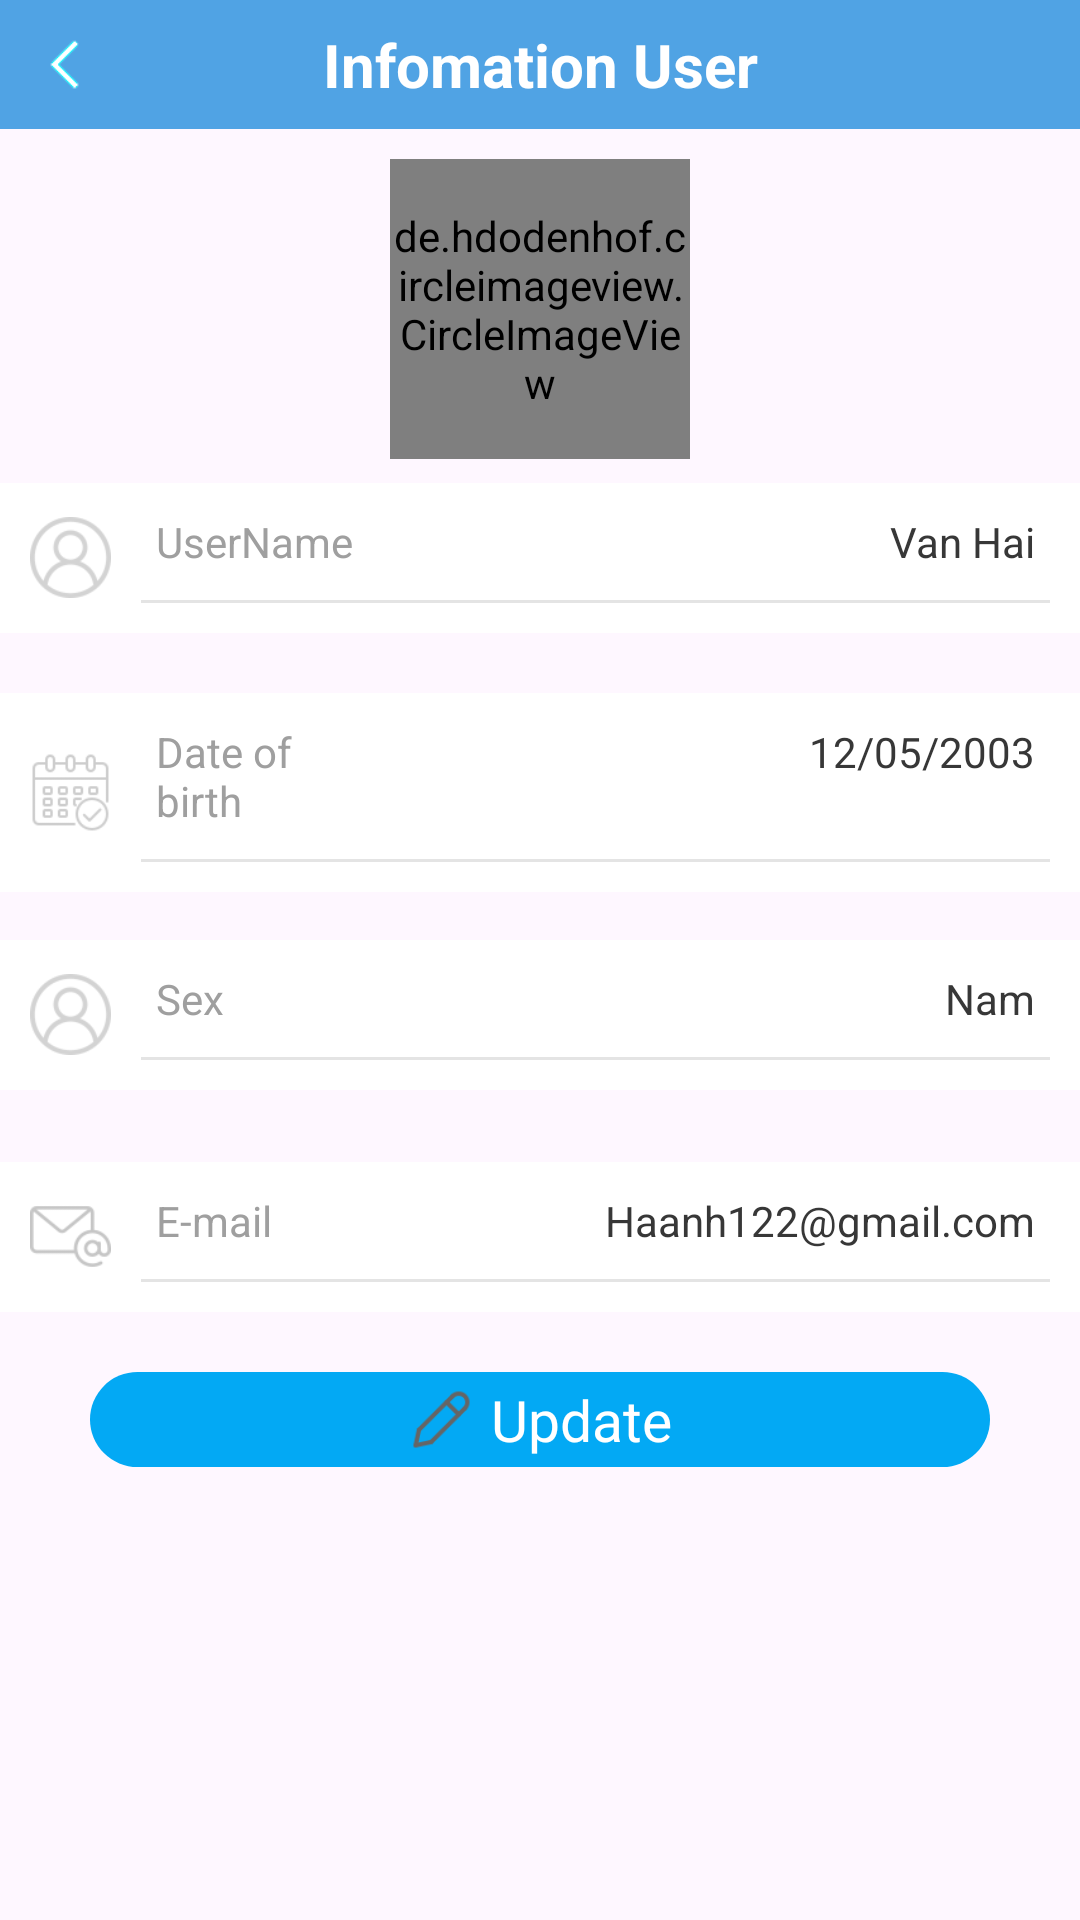

Screen size 1080px×1920px. Icon name, then its center in pixels as (x,y):
calendar: (70,792)
edit: (441,1419)
left: (64,65)
